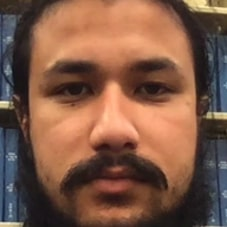awake: (39, 41, 193, 226)
